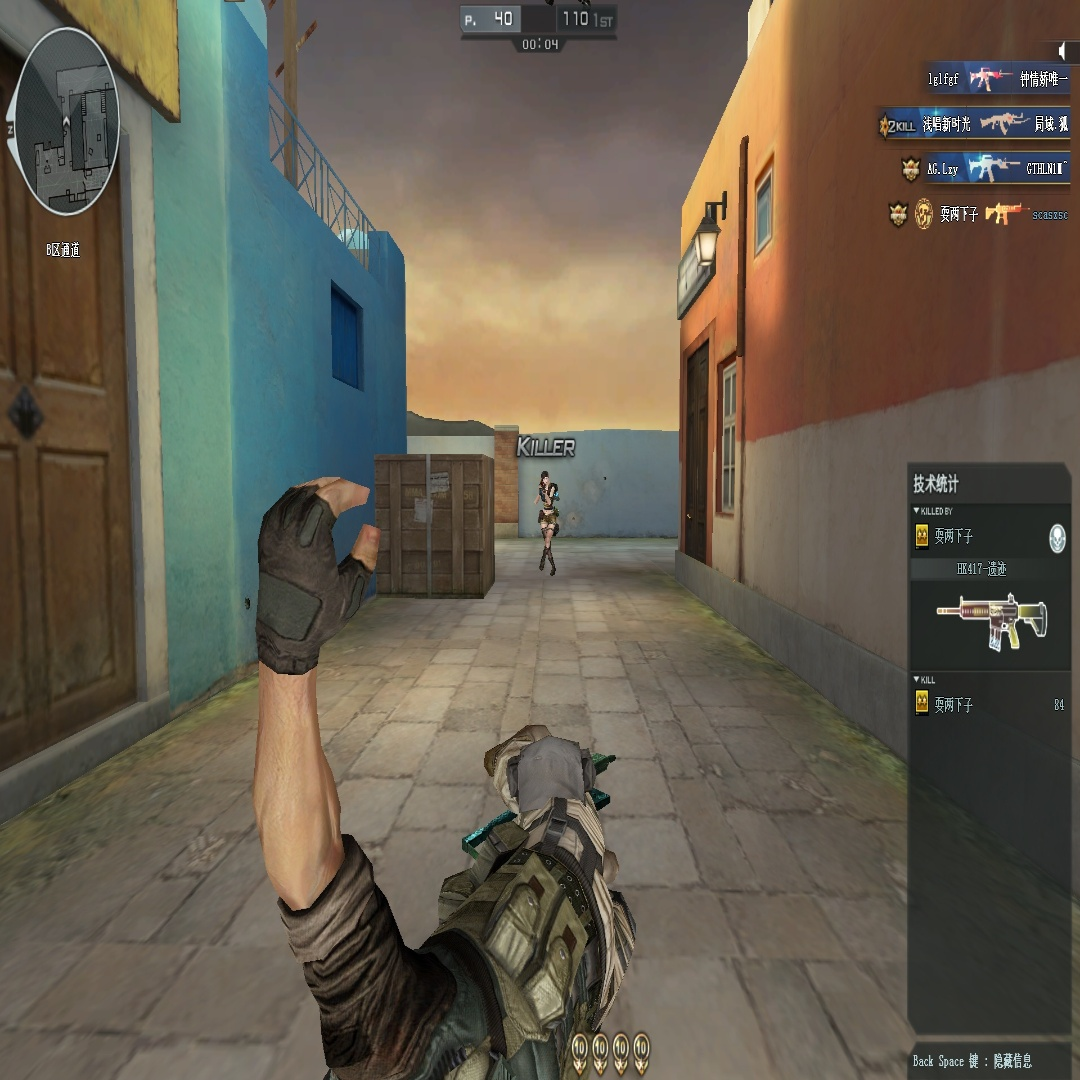p: (537, 469, 559, 571)
